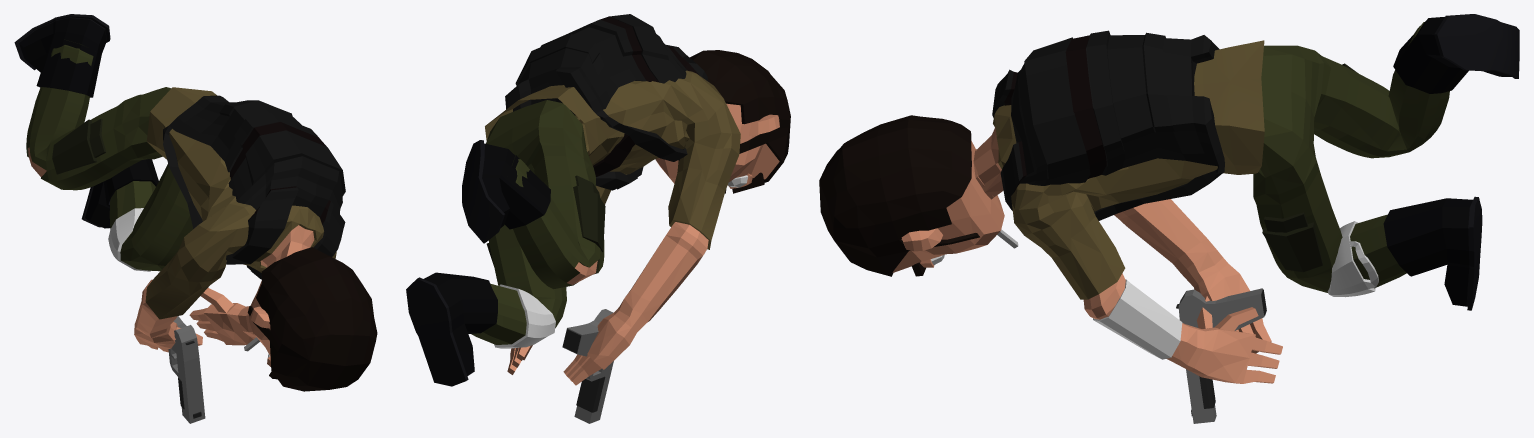
Rendered from frame_0055.obj.
The picture shows the model from 3 angles, left to right: view 1: azimuth 30°, elevation 25°; view 2: azimuth 150°, elevation 25°; view 3: azimuth 270°, elevation 25°; orthographic projection. The views are drawn at different scales.
Parts seen in each view (by area): view 1: Body, Gun; view 2: Body, Gun; view 3: Body, Gun.
Part boxes in pixels (x1,y1,x2,y2): Body: (14,14,377,391); Gun: (168,316,205,423); Body: (406,14,790,386); Gun: (562,309,613,423); Body: (819,14,1519,383); Gun: (1176,288,1266,423).
Bounding box in the file's own units: 1.25 × 2.29 × 3.59.
